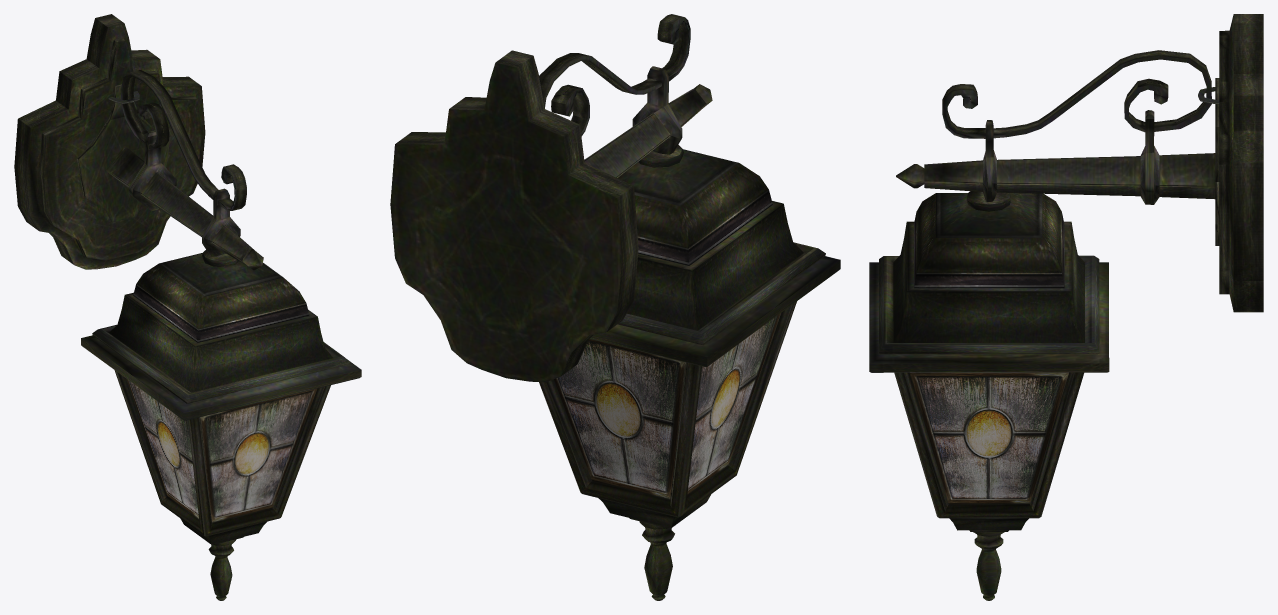
File: lamp.glb
3 views of the same model, side by side, from view 1: azimuth 30°, elevation 25°; view 2: azimuth 150°, elevation 25°; view 3: azimuth 270°, elevation 25° (orthographic). The views are drawn at different scales.
Visible parts, largest first — view 1: Box02; view 2: Box02; view 3: Box02.
Part boxes in pixels (x1=…): Box02: x1=14, y1=14, x2=361, y2=600; Box02: x1=390, y1=14, x2=840, y2=600; Box02: x1=869, y1=14, x2=1263, y2=600.
Size of the model in its own units: 0.172 by 0.4582 by 0.2822.
Materials: 1 (1 with a texture image).
